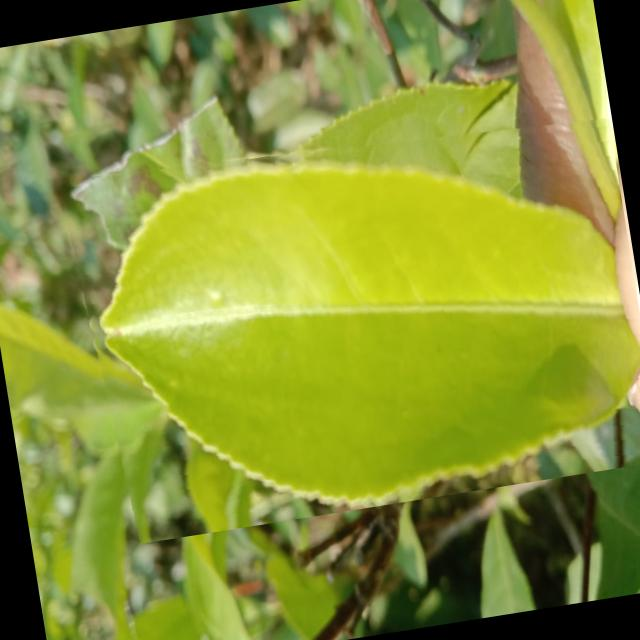Category B(2-4 days): (58, 92, 640, 546)
